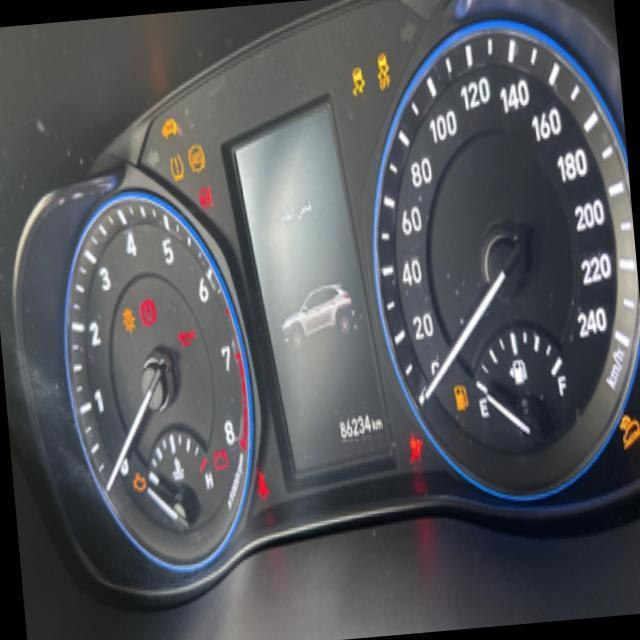security: (158, 115, 182, 144)
